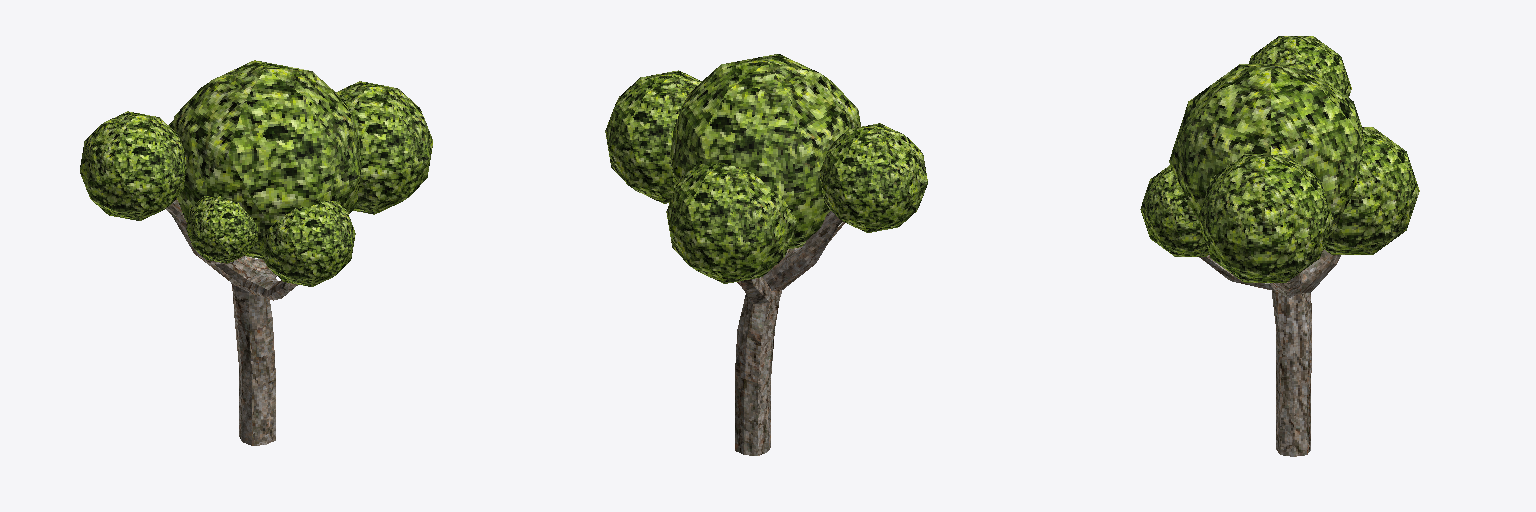
3 views of the same model, side by side, from view 1: azimuth 30°, elevation 25°; view 2: azimuth 150°, elevation 25°; view 3: azimuth 270°, elevation 25° (orthographic).
Visible parts, largest first — view 1: Cube; view 2: Cube; view 3: Cube.
Boxes of the visible parts, <box> form: Cube: <box>80,60,432,445</box>; Cube: <box>605,54,927,455</box>; Cube: <box>1140,36,1419,456</box>.
Bounding box in the file's own units: 6.86 × 7.78 × 5.2.
Materials: 1 (1 with a texture image).